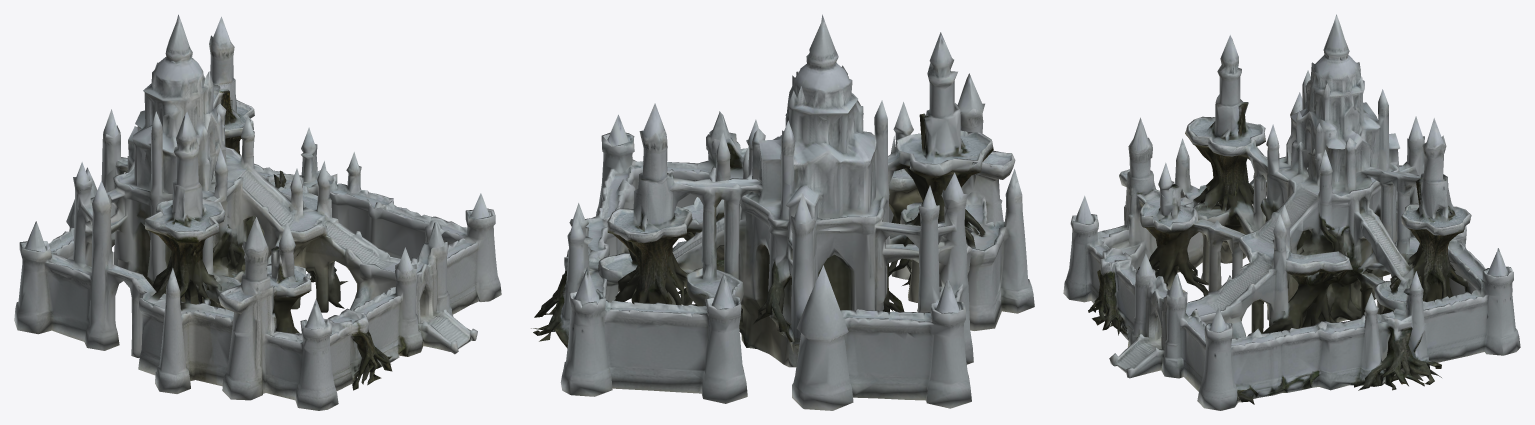
Rendered from elf-4.glb.
3 views of the same model, side by side, from view 1: azimuth 30°, elevation 25°; view 2: azimuth 150°, elevation 25°; view 3: azimuth 270°, elevation 25° (orthographic). The views are drawn at different scales.
Parts seen in each view (by area): view 1: tripo_node_1e9dae17-d708-4d89-8563-fdcc6196a527; view 2: tripo_node_1e9dae17-d708-4d89-8563-fdcc6196a527; view 3: tripo_node_1e9dae17-d708-4d89-8563-fdcc6196a527.
Part boxes in pixels (box(x1,y1,x2,y2)): tripo_node_1e9dae17-d708-4d89-8563-fdcc6196a527: box(14, 14, 501, 410); tripo_node_1e9dae17-d708-4d89-8563-fdcc6196a527: box(531, 14, 1034, 410); tripo_node_1e9dae17-d708-4d89-8563-fdcc6196a527: box(1063, 14, 1520, 410).
Size of the model in its own units: 0.9714 by 0.6697 by 1.
1 material, 1 textured.
